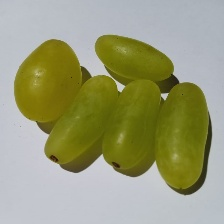grapes: (48, 30, 201, 224)
